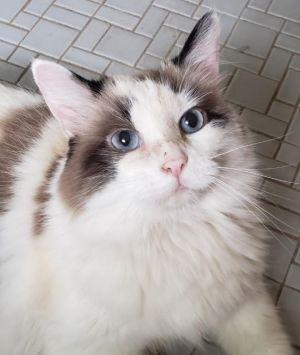ragdoll: (26, 8, 252, 239)
